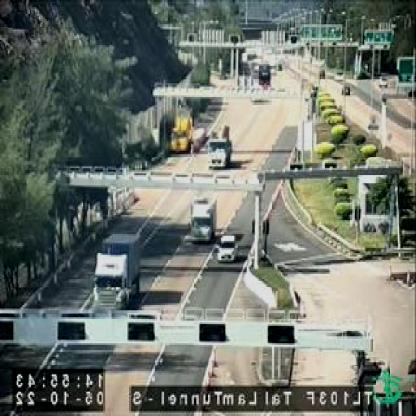Car: (218, 236, 238, 260)
Truck: (95, 232, 142, 307), (192, 194, 218, 239), (172, 106, 196, 151), (211, 125, 234, 166)
